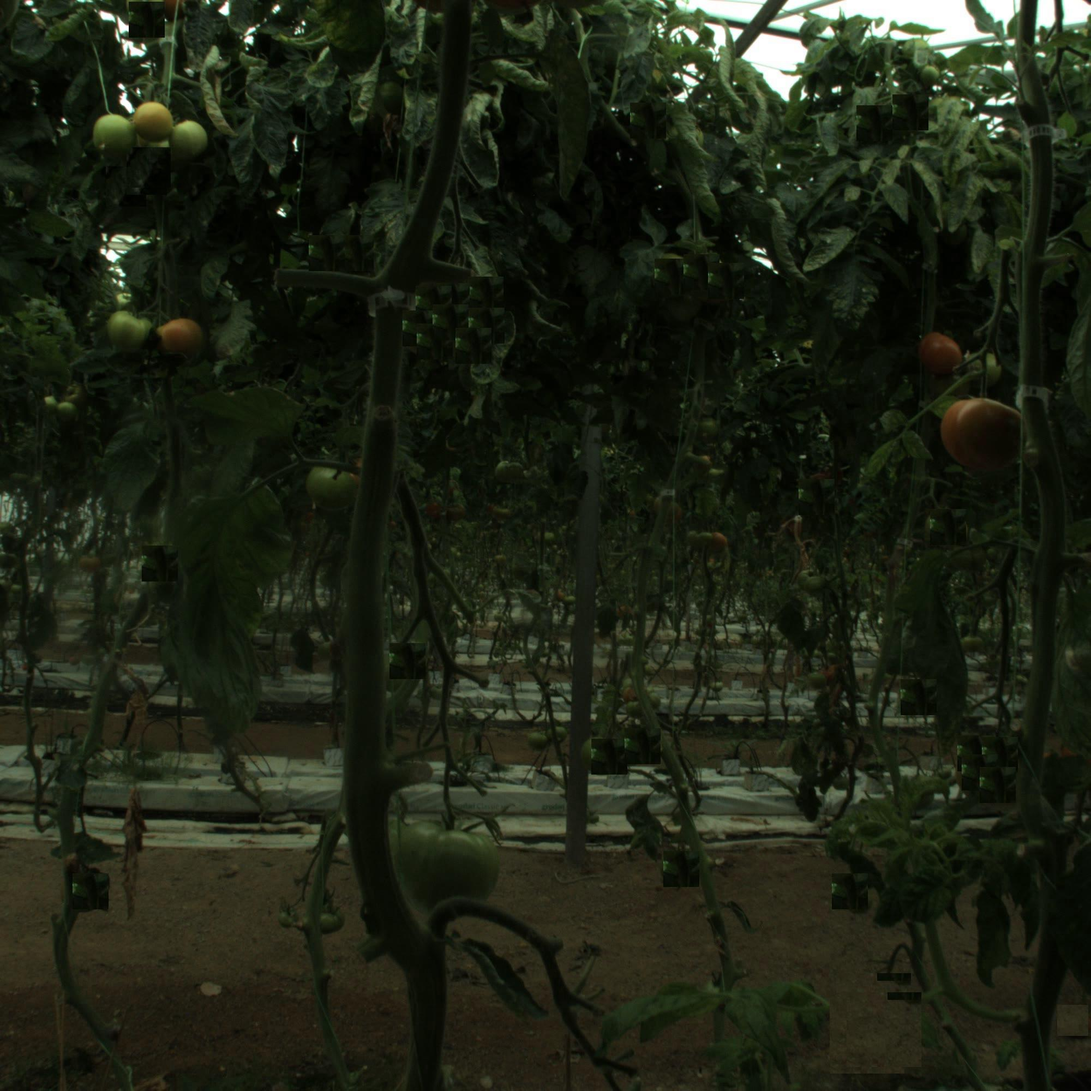fully-ripe: (944, 393, 1027, 476), (914, 331, 963, 380)
semi-ripe: (158, 320, 203, 364), (134, 101, 175, 143)
unripe: (387, 810, 504, 926), (306, 464, 354, 512), (108, 305, 153, 350), (91, 115, 135, 159), (170, 119, 212, 161)
